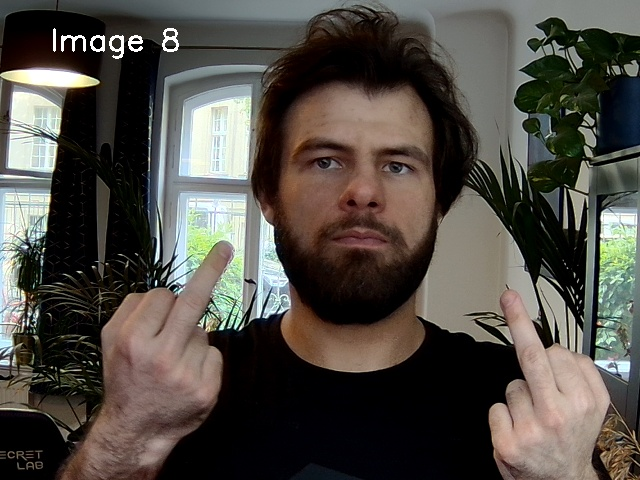Peace Among Worlds: (84, 232, 619, 479)
